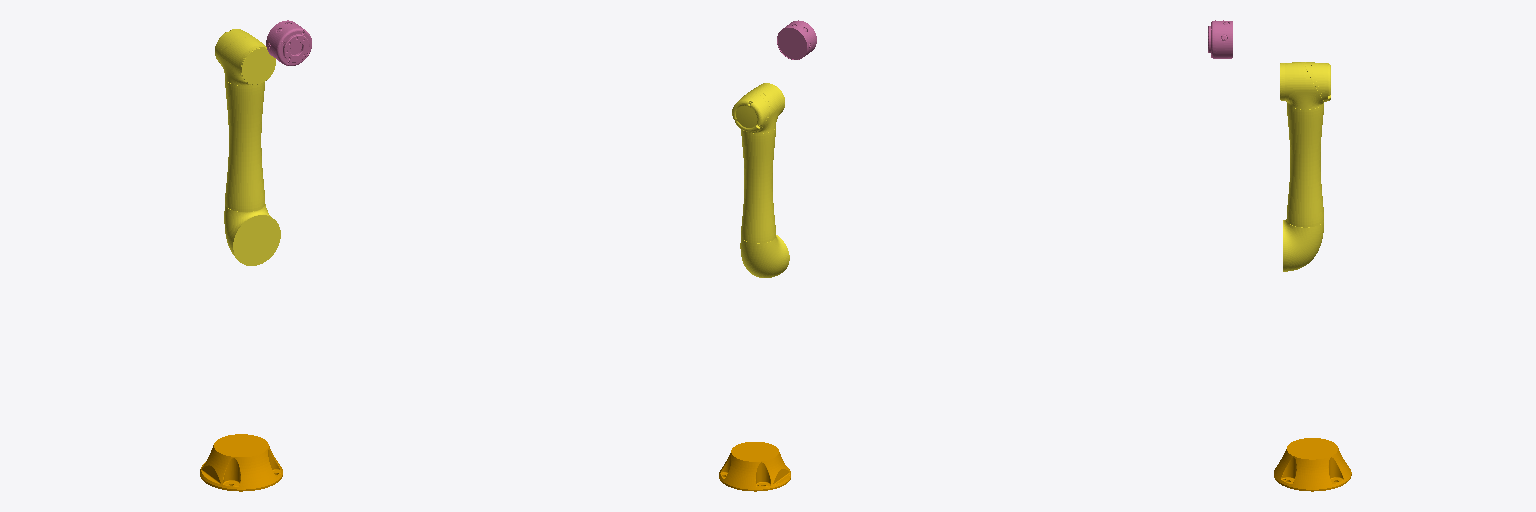
robot.urdf — tm5x-900:
<?xml version="1.0" ?>
<!-- =================================================================================== -->
<!-- |    This document was autogenerated by xacro from tm5x-900.urdf.xacro            | -->
<!-- |    EDITING THIS FILE BY HAND IS NOT RECOMMENDED                                 | -->
<!-- =================================================================================== -->
<robot name="tm5x-900">
  <gazebo reference="link_1">
    <selfCollide>true</selfCollide>
  </gazebo>
  <gazebo reference="link_2">
    <selfCollide>true</selfCollide>
  </gazebo>
  <gazebo reference="link_3">
    <selfCollide>true</selfCollide>
  </gazebo>
  <gazebo reference="link_4">
    <selfCollide>true</selfCollide>
  </gazebo>
  <gazebo reference="link_5">
    <selfCollide>true</selfCollide>
  </gazebo>
  <gazebo reference="link_6">
    <selfCollide>true</selfCollide>
  </gazebo>
  <gazebo>
    <plugin filename="libgazebo_ros_control.so" name="gazebo_ros_control">
      <robotNamespace>/</robotNamespace>
      <robotSimType>gazebo_ros_control/DefaultRobotHWSim</robotSimType>
    </plugin>
  </gazebo>
  <transmission name="trans_1">
    <type>transmission_interface/SimpleTransmission</type>
    <joint name="joint_1">
      <hardwareInterface>hardware_interface/PositionJointInterface</hardwareInterface>
    </joint>
    <actuator name="motor_1">
      <mechanicalReduction>1</mechanicalReduction>
    </actuator>
  </transmission>
  <transmission name="trans_2">
    <type>transmission_interface/SimpleTransmission</type>
    <joint name="joint_2">
      <hardwareInterface>hardware_interface/PositionJointInterface</hardwareInterface>
    </joint>
    <actuator name="motor_2">
      <mechanicalReduction>1</mechanicalReduction>
    </actuator>
  </transmission>
  <transmission name="trans_3">
    <type>transmission_interface/SimpleTransmission</type>
    <joint name="joint_3">
      <hardwareInterface>hardware_interface/PositionJointInterface</hardwareInterface>
    </joint>
    <actuator name="motor_3">
      <mechanicalReduction>1</mechanicalReduction>
    </actuator>
  </transmission>
  <transmission name="trans_4">
    <type>transmission_interface/SimpleTransmission</type>
    <joint name="joint_4">
      <hardwareInterface>hardware_interface/PositionJointInterface</hardwareInterface>
    </joint>
    <actuator name="motor_4">
      <mechanicalReduction>1</mechanicalReduction>
    </actuator>
  </transmission>
  <transmission name="trans_5">
    <type>transmission_interface/SimpleTransmission</type>
    <joint name="joint_5">
      <hardwareInterface>hardware_interface/PositionJointInterface</hardwareInterface>
    </joint>
    <actuator name="motor_5">
      <mechanicalReduction>1</mechanicalReduction>
    </actuator>
  </transmission>
  <transmission name="trans_6">
    <type>transmission_interface/SimpleTransmission</type>
    <joint name="joint_6">
      <hardwareInterface>hardware_interface/PositionJointInterface</hardwareInterface>
    </joint>
    <actuator name="motor_6">
      <mechanicalReduction>1</mechanicalReduction>
    </actuator>
  </transmission>
  <material name="lightgrey">
    <color rgba="0.5 0.5 0.5 1.0"/>
  </material>
  <material name="grey">
    <color rgba="0.75 0.75 0.75 1.0"/>
  </material>
  <material name="white">
    <color rgba="0.95 0.95 0.95 1.0"/>
  </material>
  <material name="red">
    <color rgba="0.95 0.0 0.0 1.0"/>
  </material>
  <material name="orange">
    <color rgba="1.0 0.5 0.0 1.0"/>
  </material>
  <material name="yellow">
    <color rgba="1.0 1.0 0.0 1.0"/>
  </material>
  <material name="green">
    <color rgba="0.0 1.0 0.0 1.0"/>
  </material>
  <material name="blue">
    <color rgba="0.0 0.0 1.0 1.0"/>
  </material>
  <material name="indigo">
    <color rgba="0.3 0.3 0.6 1.0"/>
  </material>
  <material name="violet">
    <color rgba="0.6 0.0 1.0 1.0"/>
  </material>
  <material name="black">
    <color rgba="0.0 0.0 0.0 1.0"/>
  </material>
  <material name="darkolive">
    <color rgba="0.3 0.3 0.25 1.0"/>
  </material>
  <!--LinkDescription-->
  <link name="link_0">
    <visual>
      <geometry>
        <mesh filename="package://tm_description/meshes/tm5-900/visual/tm5-base.obj"/>
      </geometry>
      <material name="none"/>
    </visual>
    <collision>
      <geometry>
        <mesh filename="package://tm_description/meshes/tm5-900/collision/tm5-base_c.stl"/>
      </geometry>
    </collision>
    <inertial>
      <mass value="1.0"/>
      <origin rpy="0.000000 0.000000 0.000000" xyz="0.000000 0.000000 0.000000"/>
      <inertia ixx="0.00110833289" ixy="0.0" ixz="0.0" iyy="0.00110833289" iyz="0.0" izz="0.0018"/>
    </inertial>
  </link>
  <joint name="joint_1" type="revolute">
    <parent link="link_0"/>
    <child link="link_1"/>
    <origin rpy="0.000000 -0.000000 0.000000" xyz="0.000000 0.000000 0.145100"/>
    <axis xyz="0 0 1"/>
    <!--limit-->
    <limit effort="157" lower="-4.71238898038469" upper="4.71238898038469" velocity="3.141592653589793"/>
    <dynamics damping="0.0" friction="0.0"/>
  </joint>
  <link name="link_1">
    <visual>
      <geometry>
        <mesh filename="package://tm_description/meshes/tm5-900/visual/tmr_400w_01.obj"/>
      </geometry>
      <material name="none"/>
    </visual>
    <collision>
      <geometry>
        <mesh filename="package://tm_description/meshes/tm5-900/collision/tmr_400w_01_c.stl"/>
      </geometry>
    </collision>
    <inertial>
      <origin rpy="0.000000 0.000000 0.000000" xyz="0.000000 0.000000 0.000000"/>
      <mass value="4.032"/>
      <inertia ixx="0.008800119" ixy="0.000000" ixz="0.000000" iyy="0.011548982" iyz="0.000000" izz="0.011970080999999999"/>
    </inertial>
  </link>
  <joint name="joint_2" type="revolute">
    <parent link="link_1"/>
    <child link="link_2"/>
    <origin rpy="-1.570796 -1.570796 0.000000" xyz="0.000000 0.000000 0.000000"/>
    <axis xyz="0 0 1"/>
    <!--limit-->
    <limit effort="157" lower="-3.141592653589793" upper="3.141592653589793" velocity="3.141592653589793"/>
    <dynamics damping="0.0" friction="0.0"/>
  </joint>
  <link name="link_2">
    <visual>
      <geometry>
        <mesh filename="package://tm_description/meshes/tm5-900/visual/tm5-900_arm1.obj"/>
      </geometry>
      <material name="none"/>
    </visual>
    <collision>
      <geometry>
        <mesh filename="package://tm_description/meshes/tm5-900/collision/tm5-900_arm1_c.stl"/>
      </geometry>
    </collision>
    <inertial>
      <origin rpy="0.000000 0.000000 0.000000" xyz="0.000000 0.000000 0.000000"/>
      <mass value="8.567"/>
      <inertia ixx="0.023552072" ixy="0.000000" ixz="0.000000" iyy="0.19825197" iyz="0.000000" izz="0.20459254"/>
    </inertial>
  </link>
  <joint name="joint_3" type="revolute">
    <parent link="link_2"/>
    <child link="link_3"/>
    <origin rpy="0.000000 -0.000000 0.000000" xyz="0.429000 0.000000 0.000000"/>
    <axis xyz="0 0 1"/>
    <!--limit-->
    <limit effort="157" lower="-2.705260340591211" upper="2.705260340591211" velocity="3.141592653589793"/>
    <dynamics damping="0.0" friction="0.0"/>
  </joint>
  <link name="link_3">
    <visual>
      <geometry>
        <mesh filename="package://tm_description/meshes/tm5-900/visual/tm5-900_arm2.obj"/>
      </geometry>
      <material name="none"/>
    </visual>
    <collision>
      <geometry>
        <mesh filename="package://tm_description/meshes/tm5-900/collision/tm5-900_arm2_c.stl"/>
      </geometry>
    </collision>
    <inertial>
      <origin rpy="0.000000 0.000000 0.000000" xyz="0.000000 0.000000 0.000000"/>
      <mass value="2.273"/>
      <inertia ixx="0.003380181" ixy="0.000000" ixz="0.000000" iyy="0.033829144" iyz="0.000000" izz="0.034328203"/>
    </inertial>
  </link>
  <joint name="joint_4" type="revolute">
    <parent link="link_3"/>
    <child link="link_4"/>
    <origin rpy="0.000000 -0.000000 1.570796" xyz="0.411500 0.000000 -0.122200"/>
    <axis xyz="0 0 1"/>
    <!--limit-->
    <limit effort="43" lower="-3.141592653589793" upper="3.141592653589793" velocity="3.9269908169872414"/>
    <dynamics damping="0.0" friction="0.0"/>
  </joint>
  <link name="link_4">
    <visual>
      <geometry>
        <mesh filename="package://tm_description/meshes/tm5-900/visual/tmr_100w_01.obj"/>
      </geometry>
      <material name="none"/>
    </visual>
    <collision>
      <geometry>
        <mesh filename="package://tm_description/meshes/tm5-900/collision/tmr_100w_01_c.stl"/>
      </geometry>
    </collision>
    <inertial>
      <origin rpy="0.000000 0.000000 0.000000" xyz="0.000000 0.000000 0.000000"/>
      <mass value="1.576"/>
      <inertia ixx="0.002058405" ixy="0.000000" ixz="0.000000" iyy="0.0025630790000000002" iyz="0.000000" izz="0.00264321"/>
    </inertial>
  </link>
  <joint name="joint_5" type="revolute">
    <parent link="link_4"/>
    <child link="link_5"/>
    <origin rpy="1.570796 -0.000000 0.000000" xyz="0.000000 -0.106000 0.000000"/>
    <axis xyz="0 0 1"/>
    <!--limit-->
    <limit effort="43" lower="-3.141592653589793" upper="3.141592653589793" velocity="3.9269908169872414"/>
    <dynamics damping="0.0" friction="0.0"/>
  </joint>
  <link name="link_5">
    <visual>
      <geometry>
        <mesh filename="package://tm_description/meshes/tm5-900/visual/tmr_100w_02.obj"/>
      </geometry>
      <material name="none"/>
    </visual>
    <collision>
      <geometry>
        <mesh filename="package://tm_description/meshes/tm5-900/collision/tmr_100w_02_c.stl"/>
      </geometry>
    </collision>
    <inertial>
      <origin rpy="0.000000 0.000000 0.000000" xyz="0.000000 0.000000 0.000000"/>
      <mass value="1.576"/>
      <inertia ixx="0.002058405" ixy="0.000000" ixz="0.000000" iyy="0.0025630790000000002" iyz="0.000000" izz="0.00264321"/>
    </inertial>
  </link>
  <joint name="joint_6" type="revolute">
    <parent link="link_5"/>
    <child link="link_6"/>
    <origin rpy="1.570796 -0.000000 0.000000" xyz="0.000000 -0.114400 0.000000"/>
    <axis xyz="0 0 1"/>
    <!--limit-->
    <limit effort="43" lower="-4.71238898038469" upper="4.71238898038469" velocity="3.9269908169872414"/>
    <dynamics damping="0.0" friction="0.0"/>
  </joint>
  <link name="link_6">
    <visual>
      <geometry>
        <mesh filename="package://tm_description/meshes/tm5-900/visual/tmr_iox.obj"/>
      </geometry>
      <material name="none"/>
    </visual>
    <collision>
      <geometry>
        <mesh filename="package://tm_description/meshes/tm5-900/collision/tmr_iox_c.stl"/>
      </geometry>
    </collision>
    <inertial>
      <origin rpy="0.000000 0.000000 0.000000" xyz="0.000000 0.000000 0.000000"/>
      <mass value="0.4"/>
      <inertia ixx="0.00047664299999999996" ixy="0.000000" ixz="0.000000" iyy="0.0008515759999999999" iyz="0.000000" izz="0.00095969"/>
    </inertial>
  </link>
  <link name="base"/>
  <joint name="base_fixed_joint" type="fixed">
    <parent link="base"/>
    <child link="link_0"/>
    <origin rpy="0.000000 0.000000 0.000000" xyz="0.000000 0.000000 0.000000"/>
  </joint>
  <link name="flange"/>
  <joint name="flange_fixed_joint" type="fixed">
    <parent link="link_6"/>
    <child link="flange"/>
    <origin rpy="0.000000 0.000000 0.000000" xyz="0.000000 0.000000 0.000000"/>
  </joint>
  <!--LinkDescription-->
</robot>

--- What the picture shows (computed from the rendered views, not written in the file) ---
Views: 3 orthographic renders of the robot side by side, from view 1: azimuth 30°, elevation 25°; view 2: azimuth 150°, elevation 25°; view 3: azimuth 270°, elevation 25°.
Model tm5x-900 with 9 links and 8 joints (6 revolute, 2 fixed), rooted at base, posed all joints at 0.
Visible links, largest first — view 1: link_3, link_0, link_6; view 2: link_3, link_0, link_6; view 3: link_3, link_0, link_6.
Link boxes in pixels (x1,y1,x2,y2): link_3: (215, 29, 280, 265); link_0: (200, 434, 282, 491); link_6: (266, 20, 311, 65); link_3: (732, 83, 789, 277); link_0: (719, 442, 790, 491); link_6: (777, 20, 816, 59); link_3: (1280, 62, 1330, 271); link_0: (1274, 438, 1351, 491); link_6: (1208, 20, 1232, 58).
Size in the robot's own frame: 0.177 by 0.3251 by 1.14 metres.
Meshes: 7 distinct files referenced, 3 mesh visuals loaded (3 OBJ); not drawn: 4 (reference not matched to a file when rendering).